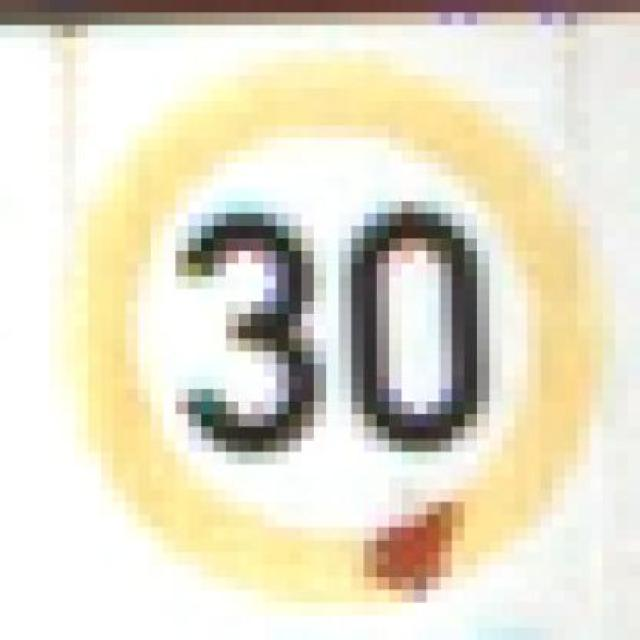Speed Limit 30 KMPh: (38, 50, 614, 602)
